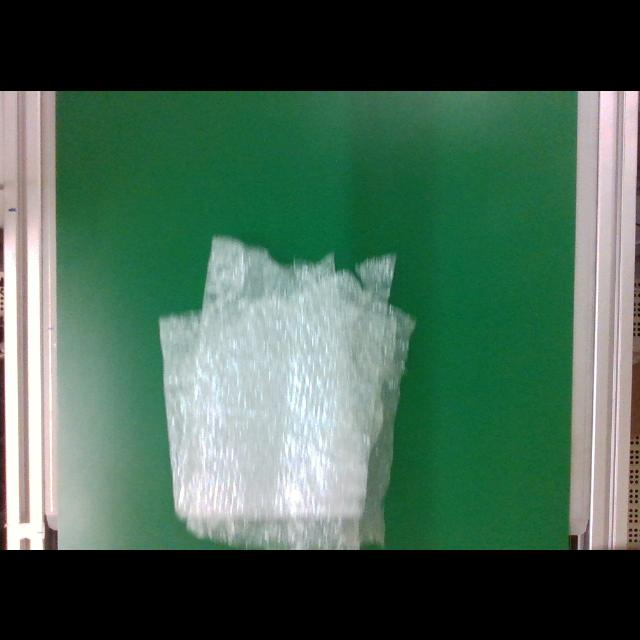scrap_plastic: (154, 221, 418, 549), (157, 228, 417, 550)
